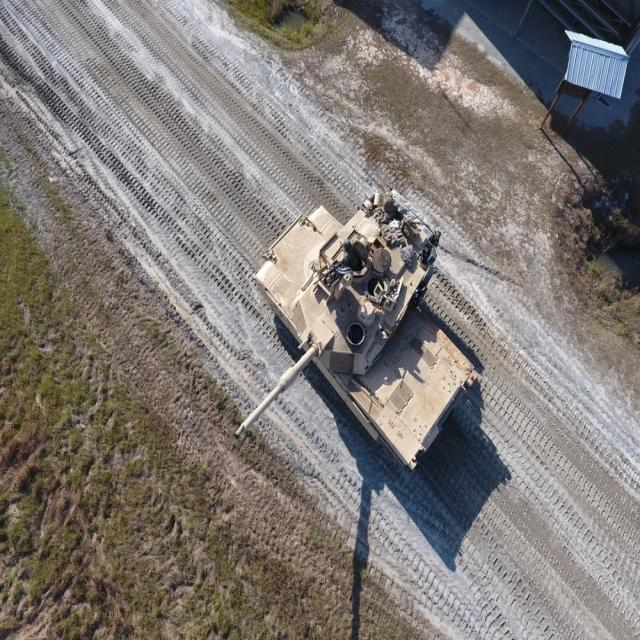tank: (228, 189, 482, 471)
